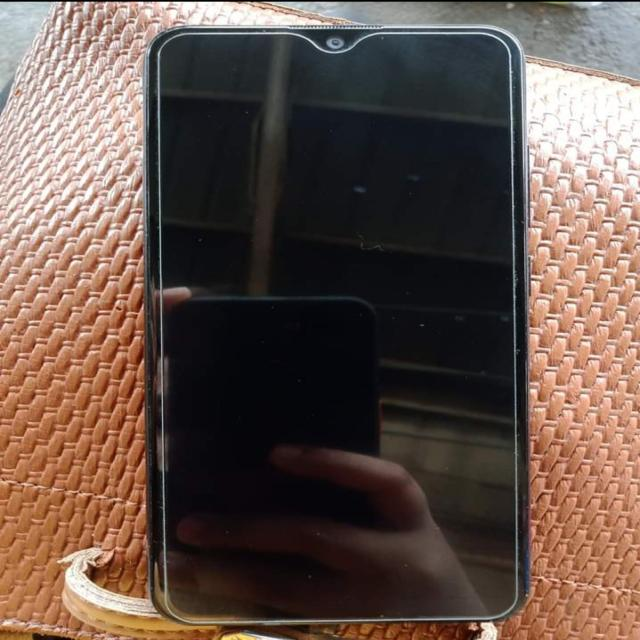mobile phone: (140, 23, 530, 626)
